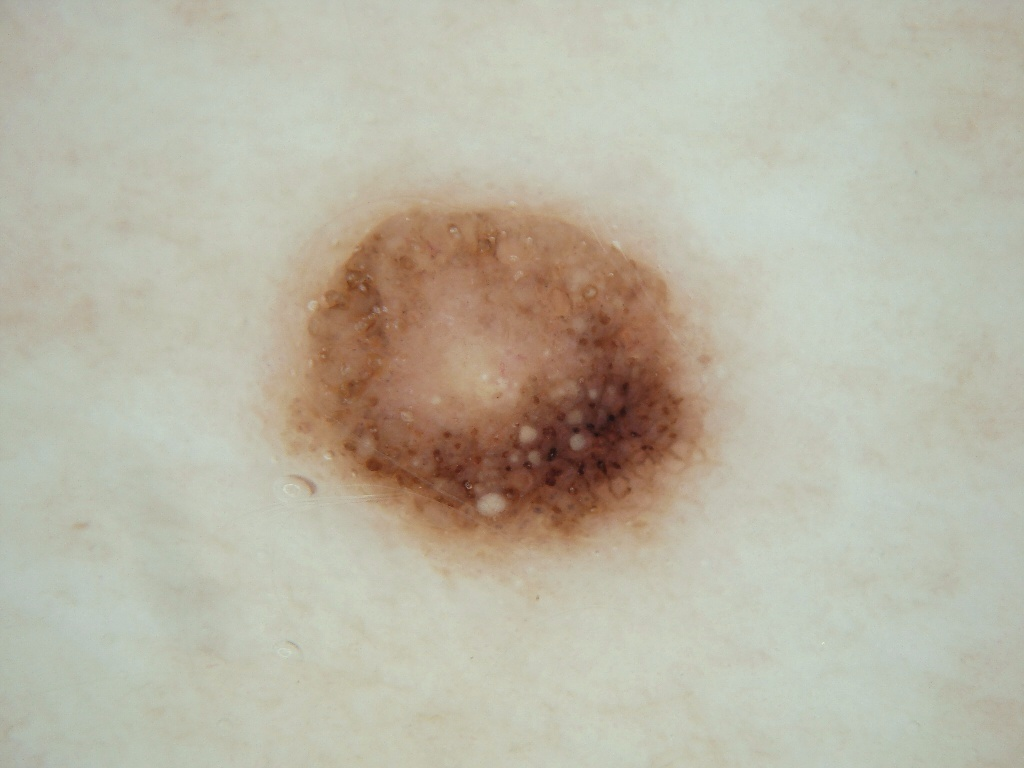Detected Lesion: (271, 192, 717, 563)
